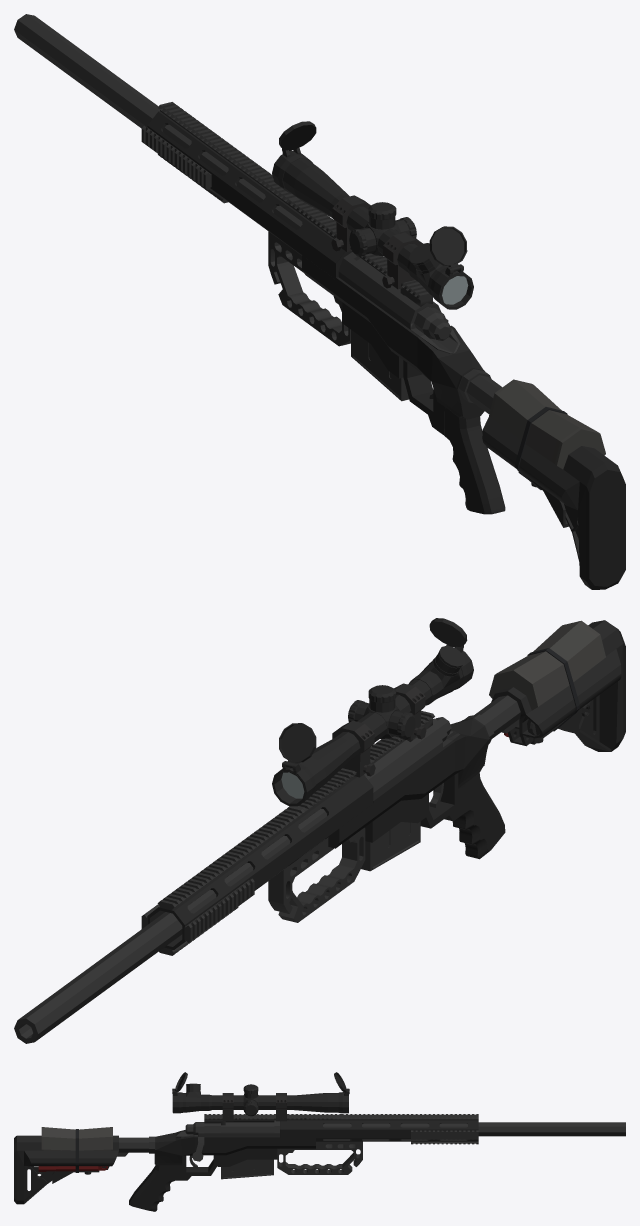
Rendered from Rifles2.glb.
The picture shows the model from 3 angles, top to bottom: view 1: azimuth 30°, elevation 25°; view 2: azimuth 150°, elevation 25°; view 3: azimuth 270°, elevation 25°; orthographic projection. The views are drawn at different scales.
Parts seen in each view (by area): view 1: Stock_Sopmod, Body_Chasis, Barrel, Handguard, Cheek_Pad, Scope_Leupold, grip_RDE, Grip_Sniper_Handguard, Bolt_Assembly, Rail_Top_Extension, Cover_Front (×2), Rail_Top (+5 smaller); view 2: Stock_Sopmod, Barrel, Body_Chasis, Handguard, Cheek_Pad, Grip_Sniper_Handguard, Scope_Leupold, grip_RDE, Rail_Top_Extension, Bolt_Assembly, Cover_Front (×2), Magazine_Standard (+7 smaller); view 3: Body_Chasis, Handguard, Stock_Sopmod, Barrel, Scope_Leupold, Cheek_Pad, Grip_Sniper_Handguard, grip_RDE, bolt, Rail_Top_Extension, Rail_Top, Magazine_Standard (+7 smaller).
Part boxes in pixels (<box>): Stock_Sopmod: <box>482,416,625,589</box>; Body_Chasis: <box>302,255,484,435</box>; Barrel: <box>14,14,302,229</box>; Handguard: <box>147,111,351,279</box>; Cheek_Pad: <box>489,379,605,469</box>; Scope_Leupold: <box>282,159,472,308</box>; grip_RDE: <box>444,408,505,514</box>; Grip_Sniper_Handguard: <box>268,231,350,346</box>; Bolt_Assembly: <box>338,252,460,354</box>; Rail_Top_Extension: <box>158,102,297,205</box>; Cover_Front (×2): <box>279,121,467,271</box>; Rail_Top: <box>288,198,432,310</box>; Stock_Sopmod: <box>491,620,625,751</box>; Barrel: <box>14,808,326,1043</box>; Body_Chasis: <box>328,718,489,848</box>; Handguard: <box>147,775,373,949</box>; Cheek_Pad: <box>489,620,605,710</box>; Grip_Sniper_Handguard: <box>268,827,365,922</box>; Scope_Leupold: <box>273,662,463,805</box>; grip_RDE: <box>452,773,505,859</box>; Rail_Top_Extension: <box>157,806,304,910</box>; Bolt_Assembly: <box>364,725,460,798</box>; Cover_Front (×2): <box>279,618,467,768</box>; Magazine_Standard: <box>361,821,420,871</box>; Body_Chasis: <box>154,1130,315,1180</box>; Handguard: <box>280,1120,478,1141</box>; Stock_Sopmod: <box>14,1135,118,1204</box>; Barrel: <box>323,1122,625,1136</box>; Scope_Leupold: <box>172,1093,338,1112</box>; Cheek_Pad: <box>41,1127,112,1150</box>; Grip_Sniper_Handguard: <box>277,1141,362,1174</box>; grip_RDE: <box>129,1164,174,1211</box>; bolt: <box>185,1122,274,1161</box>; Rail_Top_Extension: <box>341,1114,478,1120</box>; Rail_Top: <box>204,1114,341,1125</box>; Magazine_Standard: <box>221,1159,273,1179</box>.
Bounding box in the file's own units: 0.0109 × 0.0428 × 0.1733.
Materials: 7 (7 with a texture image).
